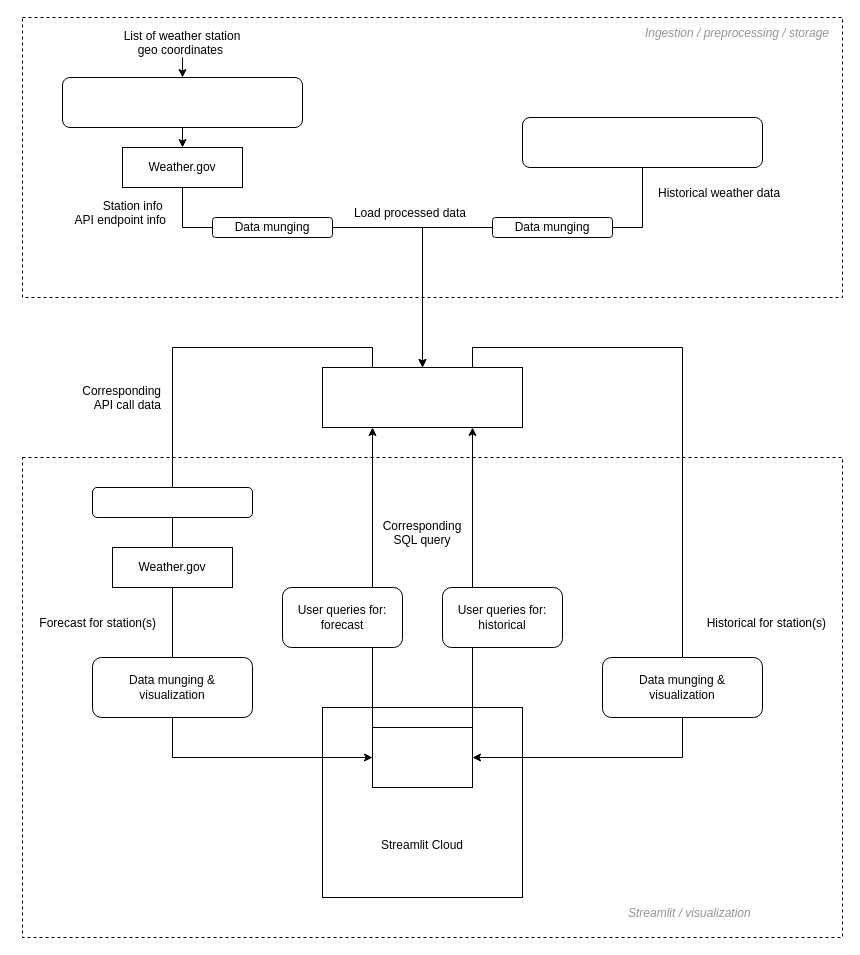
The diagram is 860 pixels wide and 955 high, and some of its shapes have lost their labels. The centre of each missing label's shape, as x and y in pixels:
"API call for forecast" belongs at (x=172, y=502).
"API Call for Metadata" belongs at (x=182, y=102).
"location based historical weather data download from NOAA" belongs at (x=642, y=142).
"SQL Database Table: Metadata Table: Historical data by station" belongs at (x=422, y=397).
"Streamlit App" belongs at (x=422, y=757).
